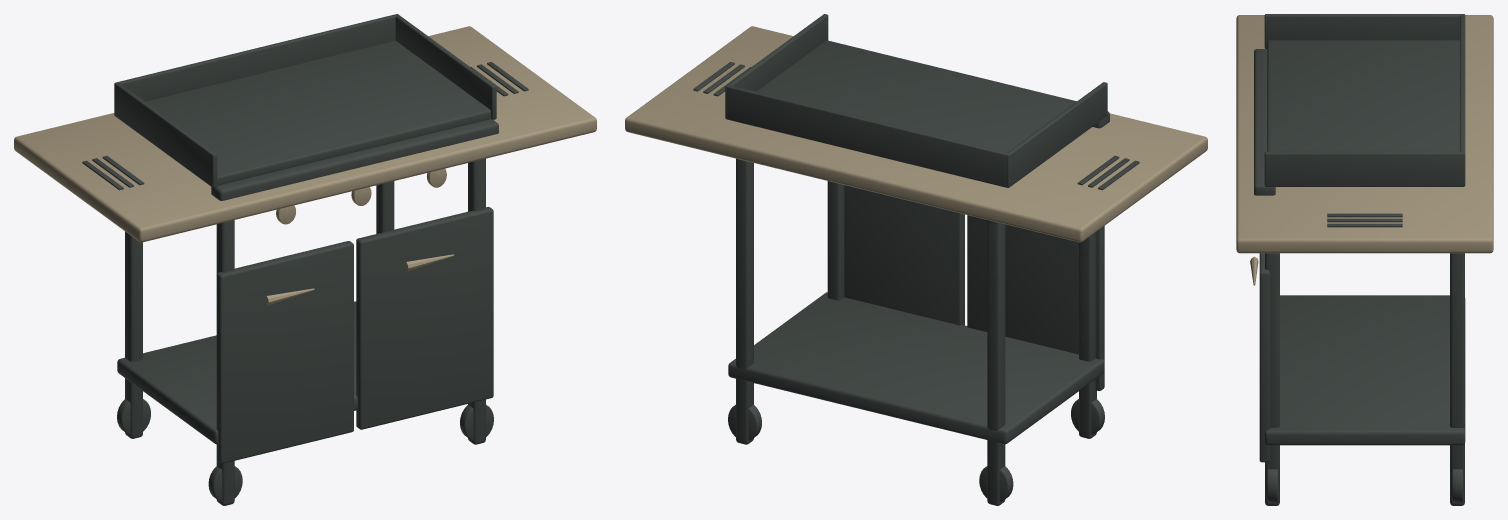
The model's file is griddle-cart.glb.
3 views of the same model, side by side, from view 1: azimuth 30°, elevation 25°; view 2: azimuth 150°, elevation 25°; view 3: azimuth 270°, elevation 25° (orthographic).
Parts seen in each view (by area): view 1: griddle-cart; view 2: griddle-cart; view 3: griddle-cart.
Part boxes in pixels (<box>): griddle-cart: <box>14,14,596,505</box>; griddle-cart: <box>625,14,1207,505</box>; griddle-cart: <box>1236,14,1493,505</box>.
Bounding box in the file's own units: 1.35 × 1 × 0.65.
